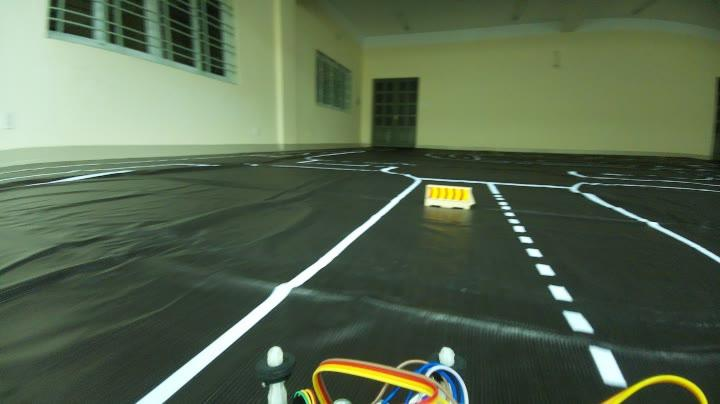roadblock: (419, 176, 477, 210)
